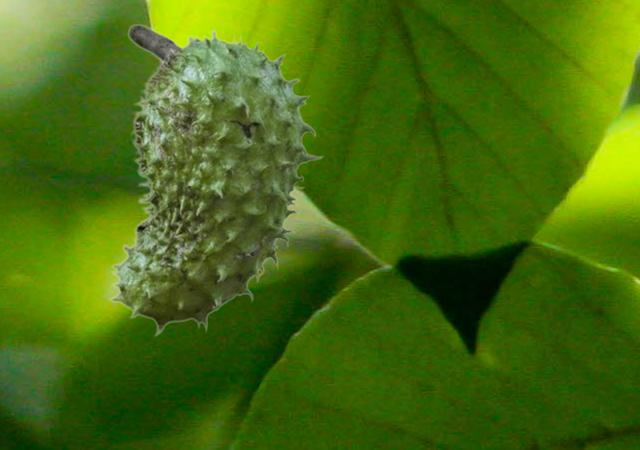guyabano: (107, 23, 323, 336)
